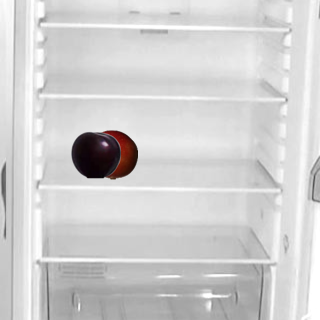Apple Braeburn: (87, 129, 137, 179)
Cherry Wax Black: (70, 129, 120, 179)
